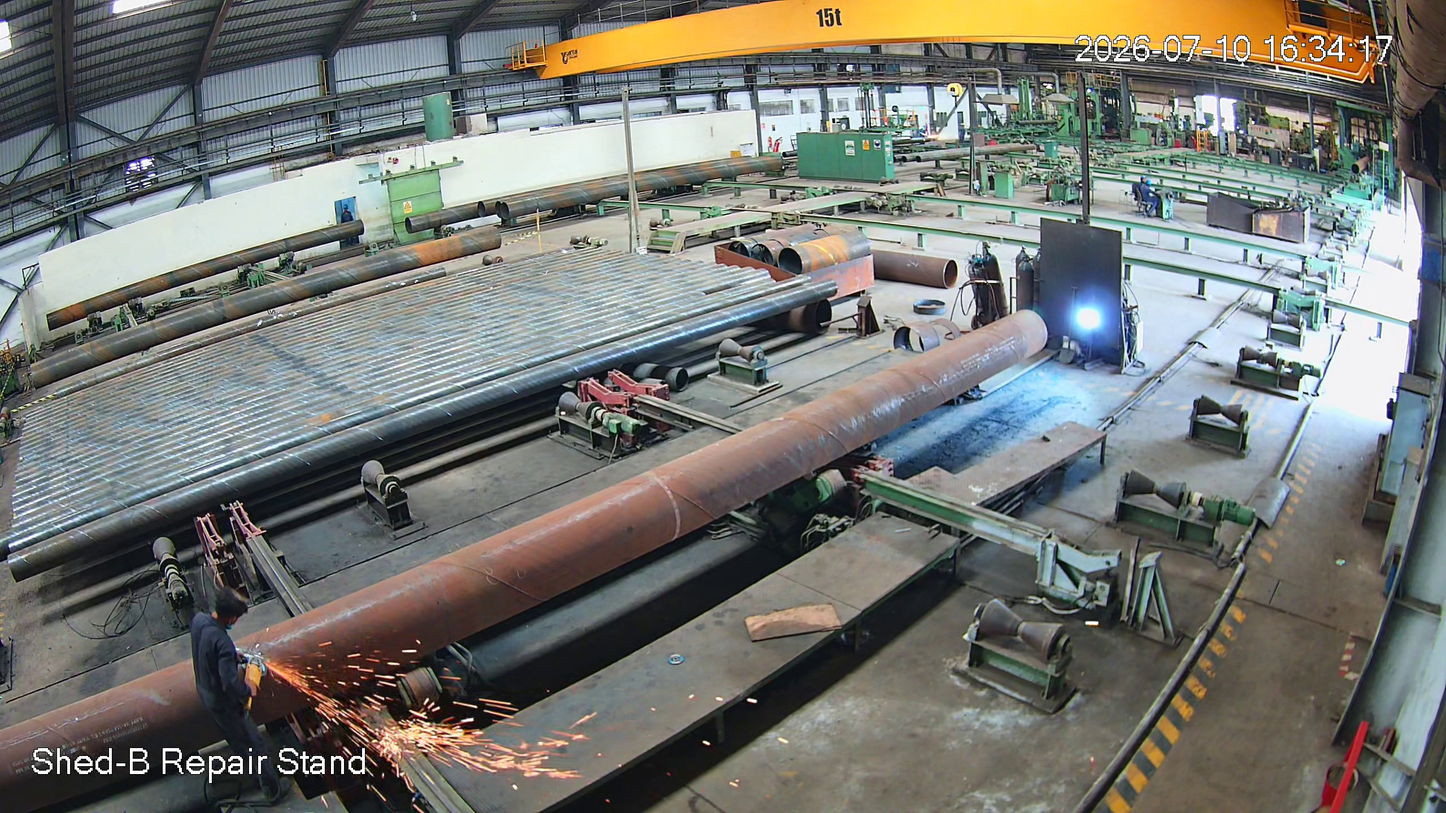Person: (185, 590, 293, 813)
